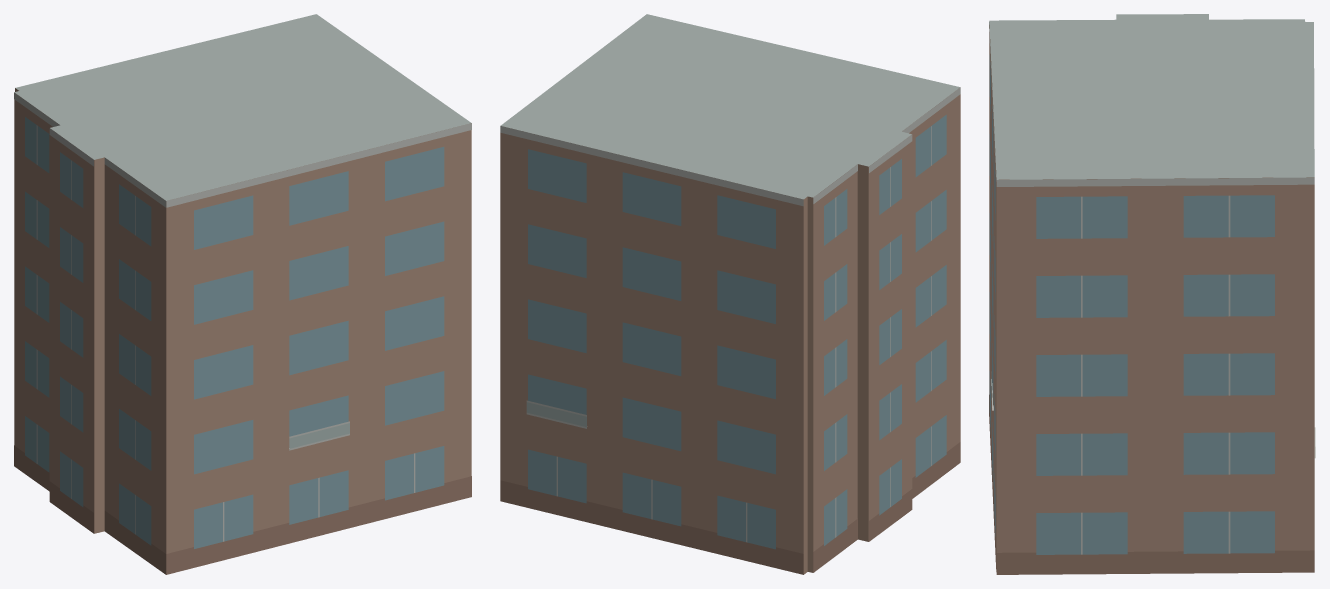
File: survey-upis-32520483.glb
The picture shows the model from 3 angles, left to right: view 1: azimuth 30°, elevation 25°; view 2: azimuth 150°, elevation 25°; view 3: azimuth 270°, elevation 25°; orthographic projection. The views are drawn at different scales.
Visible parts, largest first — view 1: survey-upis-32520483.tmp; view 2: survey-upis-32520483.tmp; view 3: survey-upis-32520483.tmp.
Boxes of the visible parts, bbox=[...] form: survey-upis-32520483.tmp: bbox=[14, 14, 471, 574]; survey-upis-32520483.tmp: bbox=[500, 14, 960, 574]; survey-upis-32520483.tmp: bbox=[989, 14, 1315, 574].
Size of the model in its own units: 11.89 by 13.2 by 9.89.
